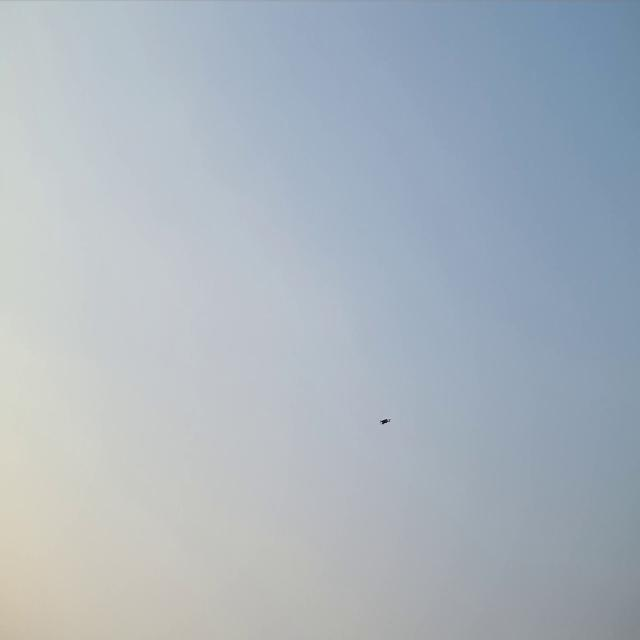UAV: (378, 416, 391, 426)
